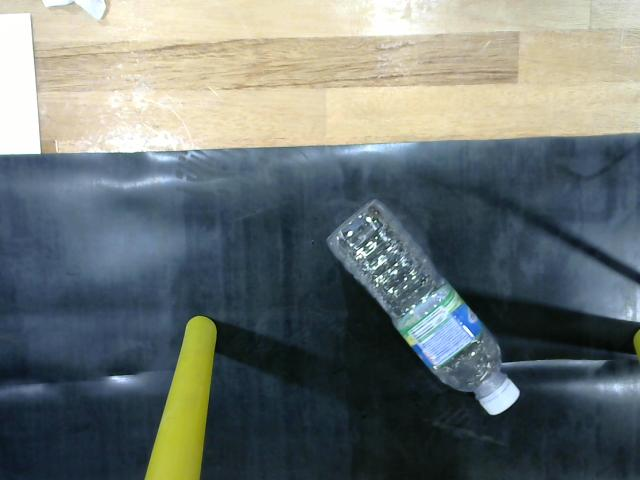bottle: (319, 189, 526, 425)
